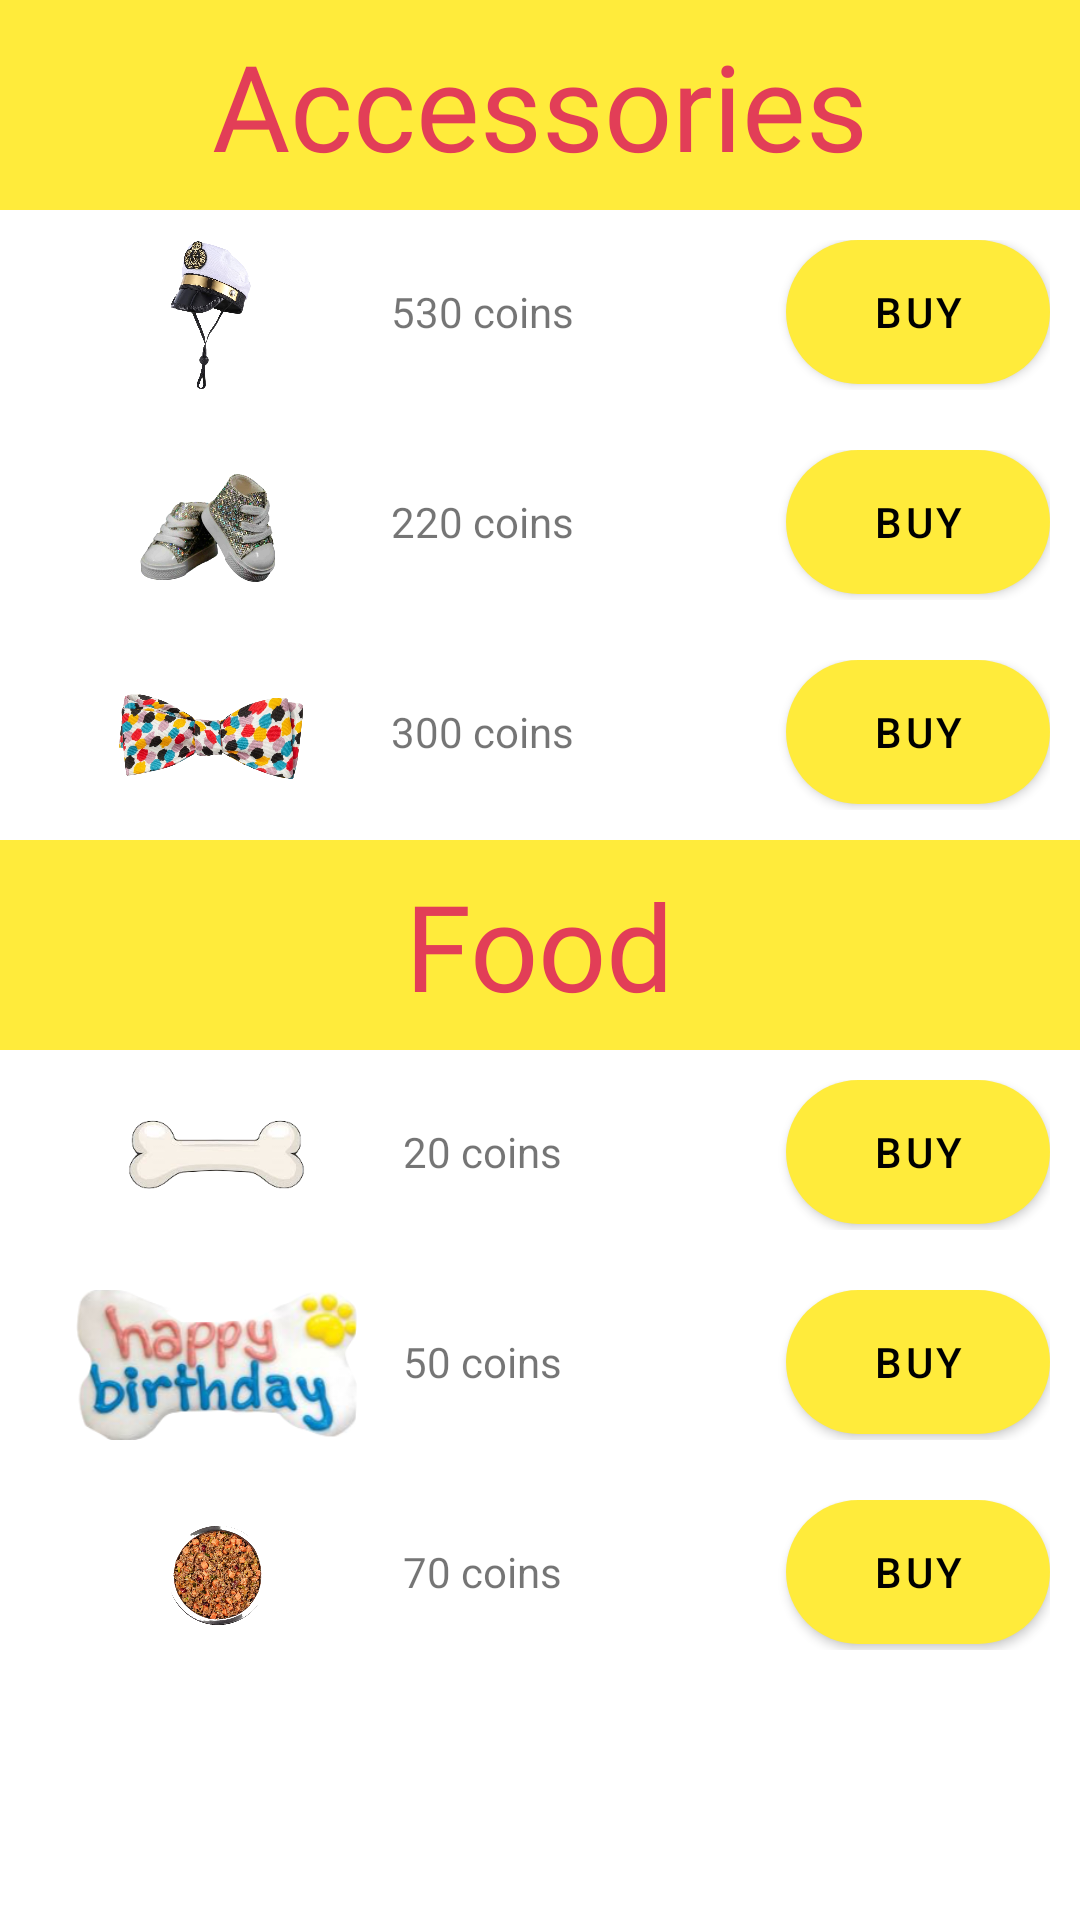

Where to tap for icons on this 1080×1920 app screen, as [x,y]:
bone: [216,1155]
bow: [211,736]
food: [217,1575]
hat: [211,315]
shoes: [207,528]
